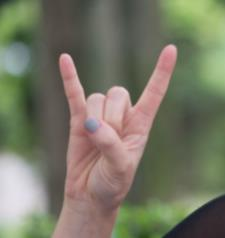clockwise: (57, 40, 183, 193)
